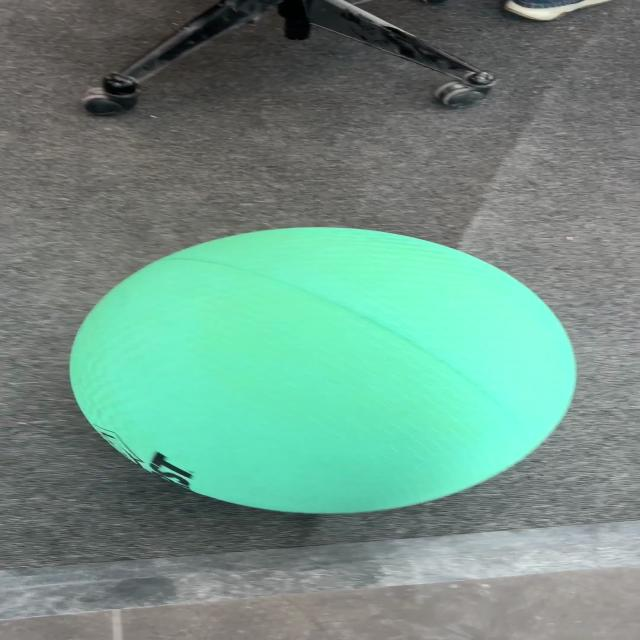Algae: (67, 225, 578, 515)
